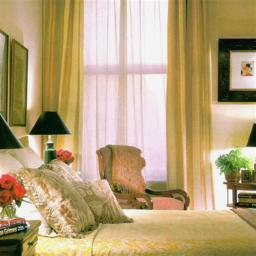Cama: (17, 168, 252, 255)
Ventana: (64, 3, 188, 175)
